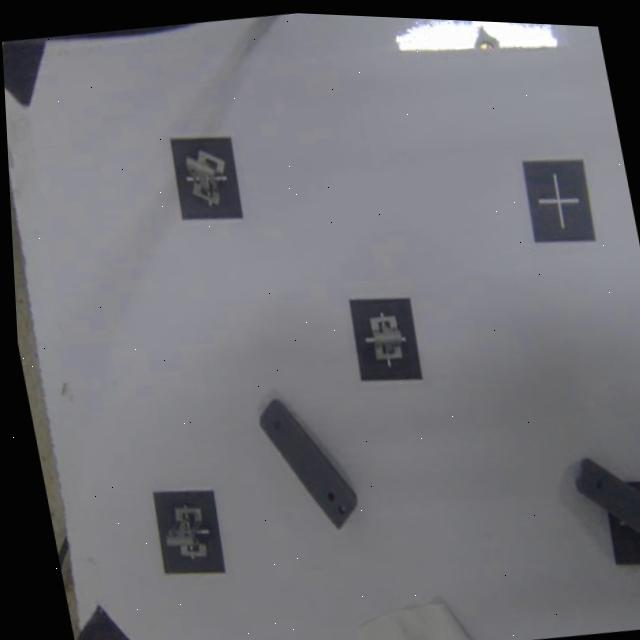pick2: (165, 132, 246, 227)
pick3: (344, 293, 429, 391)
pick5: (144, 485, 227, 585)
